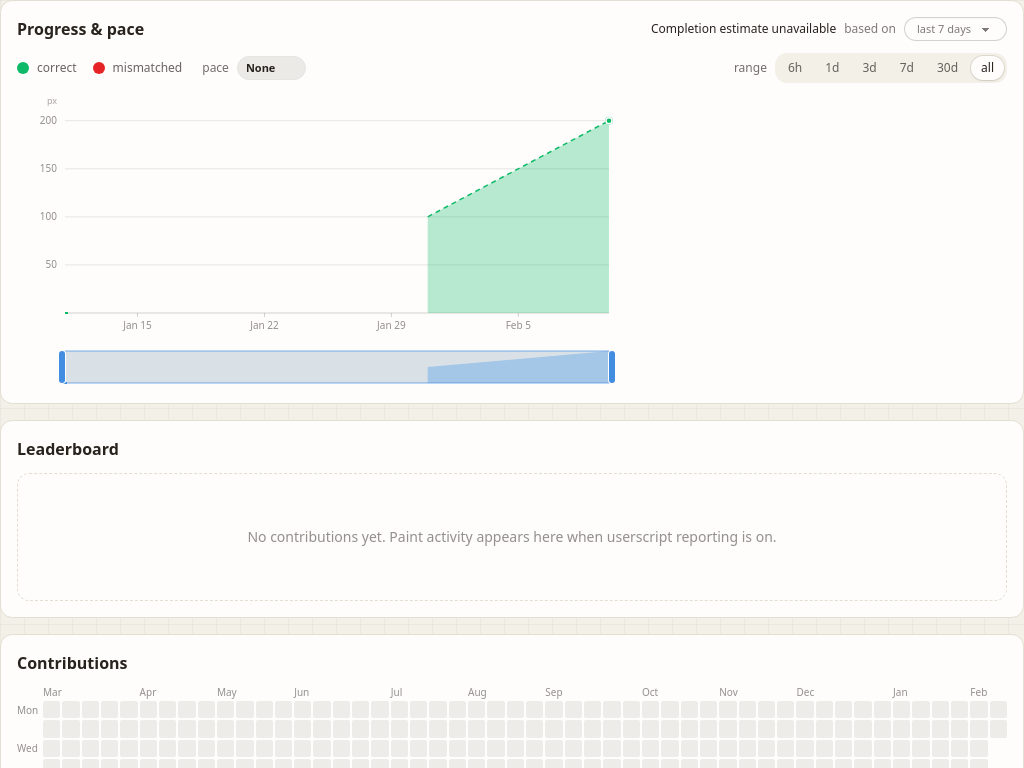
Scenario: retained history range › persists the all-time estimate across the full elapsed history (initial pixels: 0)
Step 1. Select "all" in the dropdown named "Completion estimate pace period" → (956, 29), box x1=904 y1=17 x2=1007 y2=41
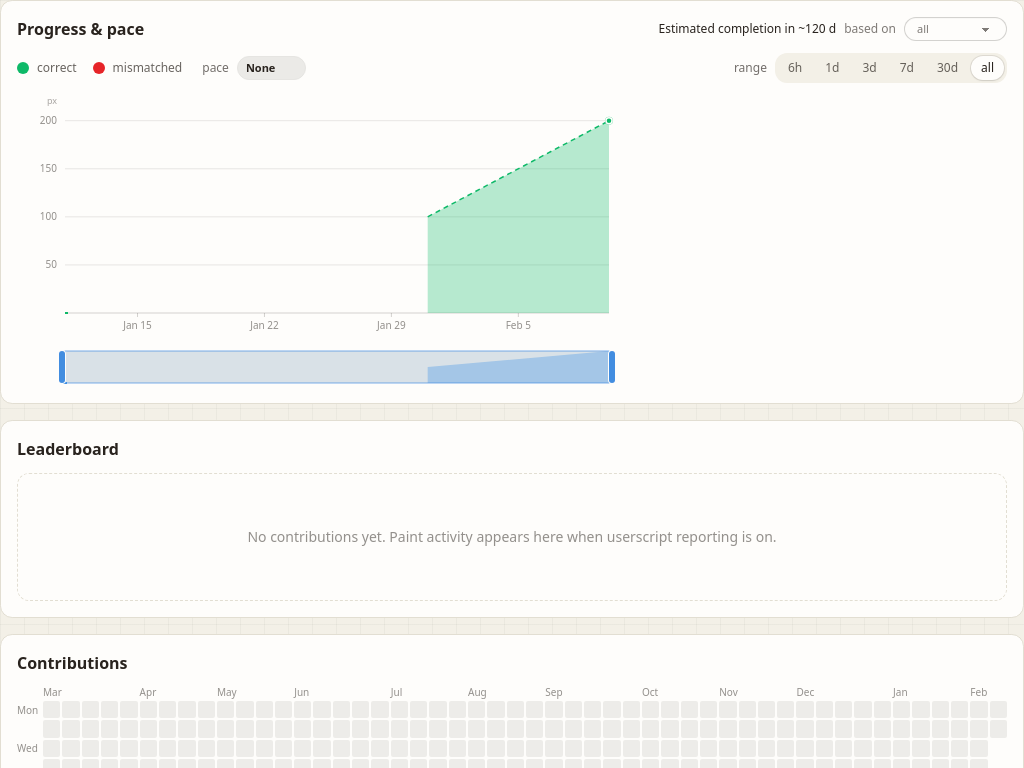
Expected: the picture "50 100 150 200 px Jan 15 Jan 22 Jan 29 Feb 5" is shown, x1=17 y1=95 x2=657 y2=335
Expected: the dropdown named "Completion estimate pace period" shows "all", x1=904 y1=17 x2=1007 y2=41
